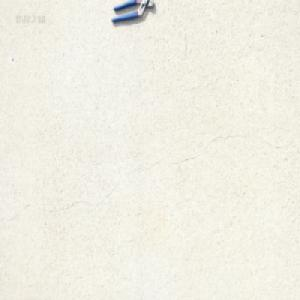Pliers: (110, 0, 154, 23)
